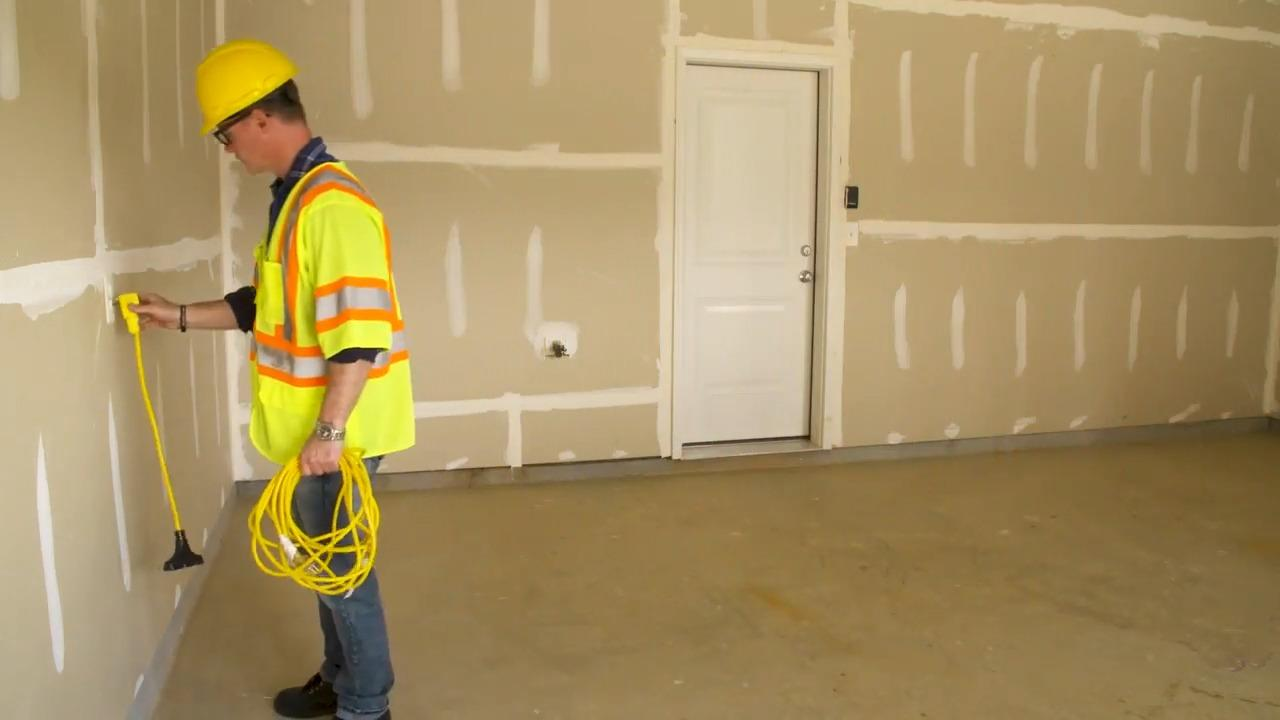Helmet: (193, 40, 298, 141)
Person: (158, 28, 425, 720)
Safety Boot: (272, 671, 338, 717)
Safety Vest: (245, 157, 417, 467)
bare-arms: (125, 284, 256, 334), (294, 424, 351, 473)
